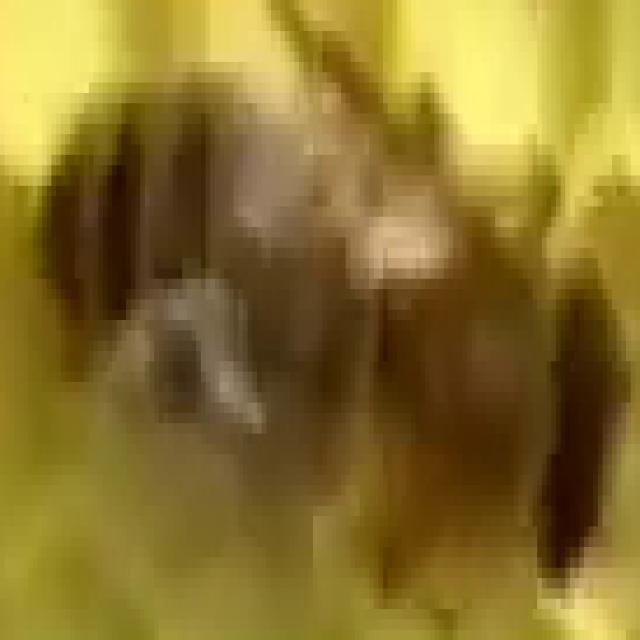honeybee: (20, 34, 620, 561)
